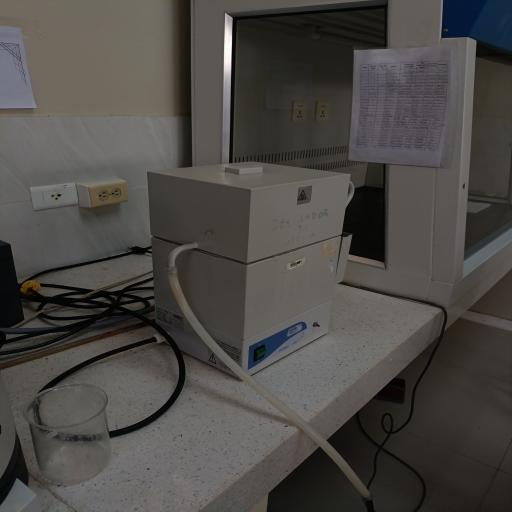Destilador_agua: (136, 147, 363, 385)
